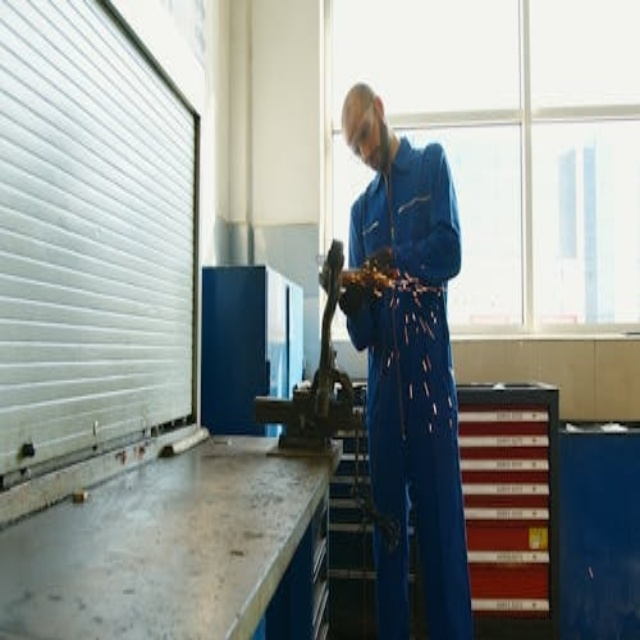Gafas: (348, 89, 383, 159)
Sin_mascara: (366, 146, 387, 178)
